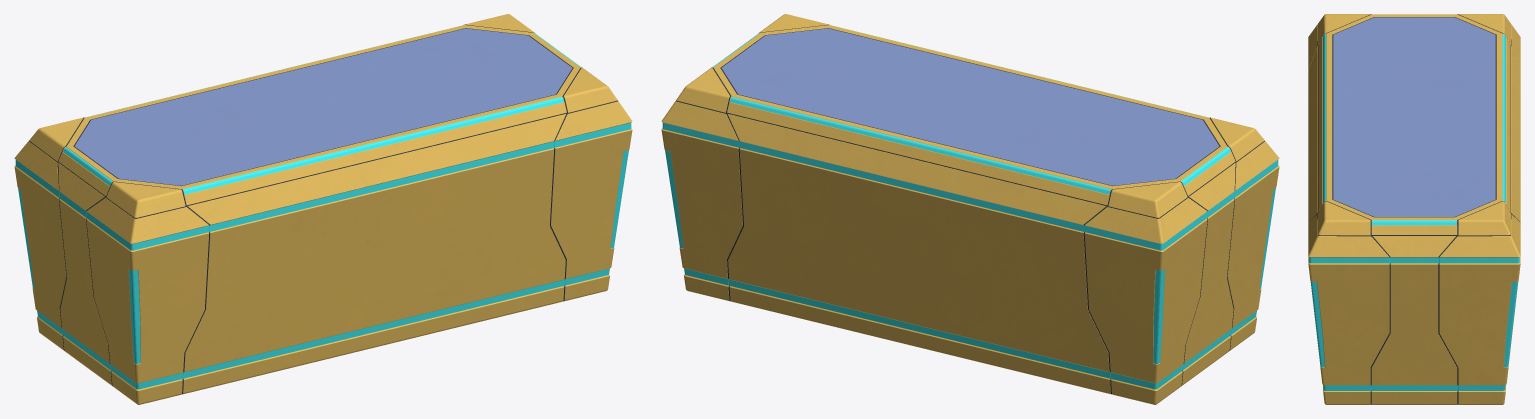
The model's file is PlatformC.fbx.
3 views of the same model, side by side, from view 1: azimuth 30°, elevation 25°; view 2: azimuth 150°, elevation 25°; view 3: azimuth 270°, elevation 25° (orthographic). The views are drawn at different scales.
Visible parts, largest first — view 1: SM_VA_PlatformC.mo; view 2: SM_VA_PlatformC.mo; view 3: SM_VA_PlatformC.mo.
Boxes of the visible parts, x1=… form: SM_VA_PlatformC.mo: x1=14, y1=14, x2=632, y2=404; SM_VA_PlatformC.mo: x1=661, y1=14, x2=1279, y2=404; SM_VA_PlatformC.mo: x1=1308, y1=14, x2=1520, y2=404.
Size of the model in its own units: 32 by 12.5 by 13.
